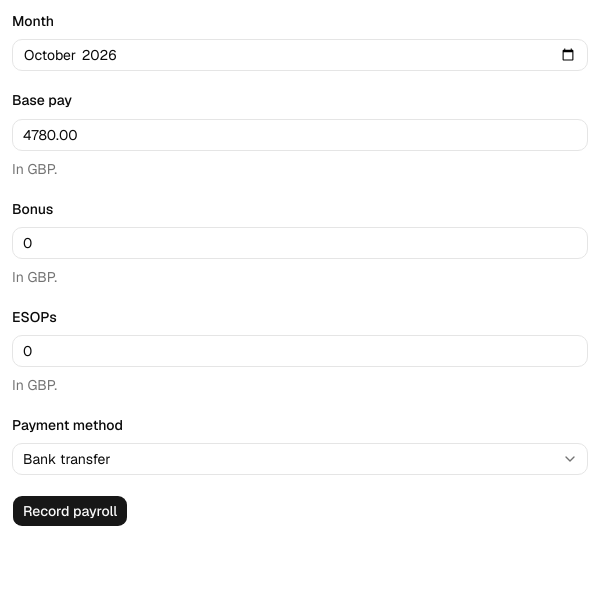
Scenario: PayrollForm › shows a conflict such as an existing payroll for the month
What coordinates should you click on to do the following:
click the button "Record payroll"
I would click on:
 (70, 511)
Its box is [12,495,128,527].
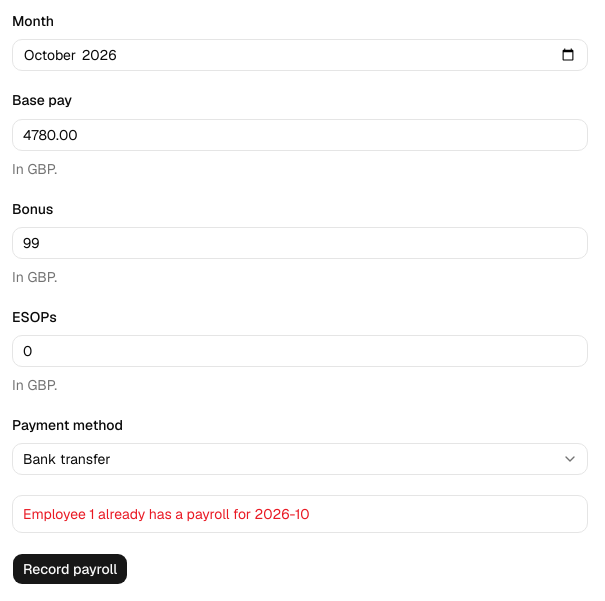
Expected: the message reads "Employee 1 already has a payroll for 2026-10", [23,505,310,523]
Expected: the field labelled "Bonus" holds "99", [12,227,588,259]
